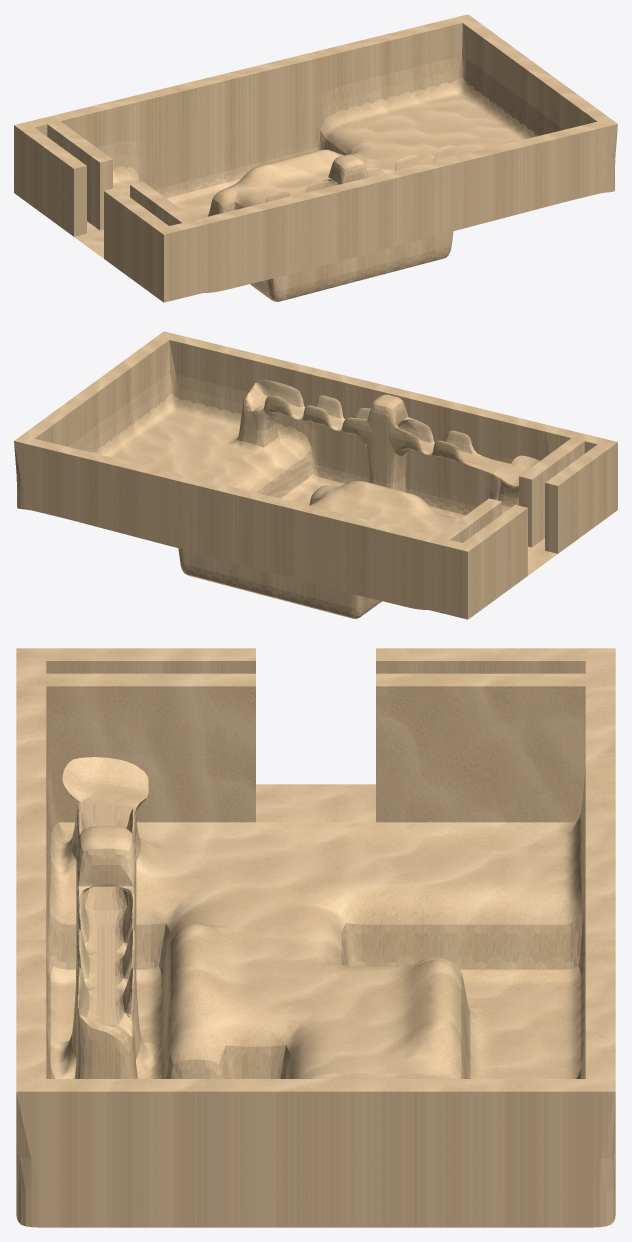
File: terrefn2.fbx
3 views of the same model, one above another, from view 1: azimuth 30°, elevation 25°; view 2: azimuth 150°, elevation 25°; view 3: azimuth 270°, elevation 25° (orthographic). The views are drawn at different scales.
Visible parts, largest first — view 1: terrain; view 2: terrain; view 3: terrain.
Part boxes in pixels (x1,y1,x2,y2): terrain: [14, 14, 617, 302]; terrain: [14, 331, 617, 619]; terrain: [16, 648, 615, 1227].
Size of the model in its own units: 35000 by 8533 by 20000.
